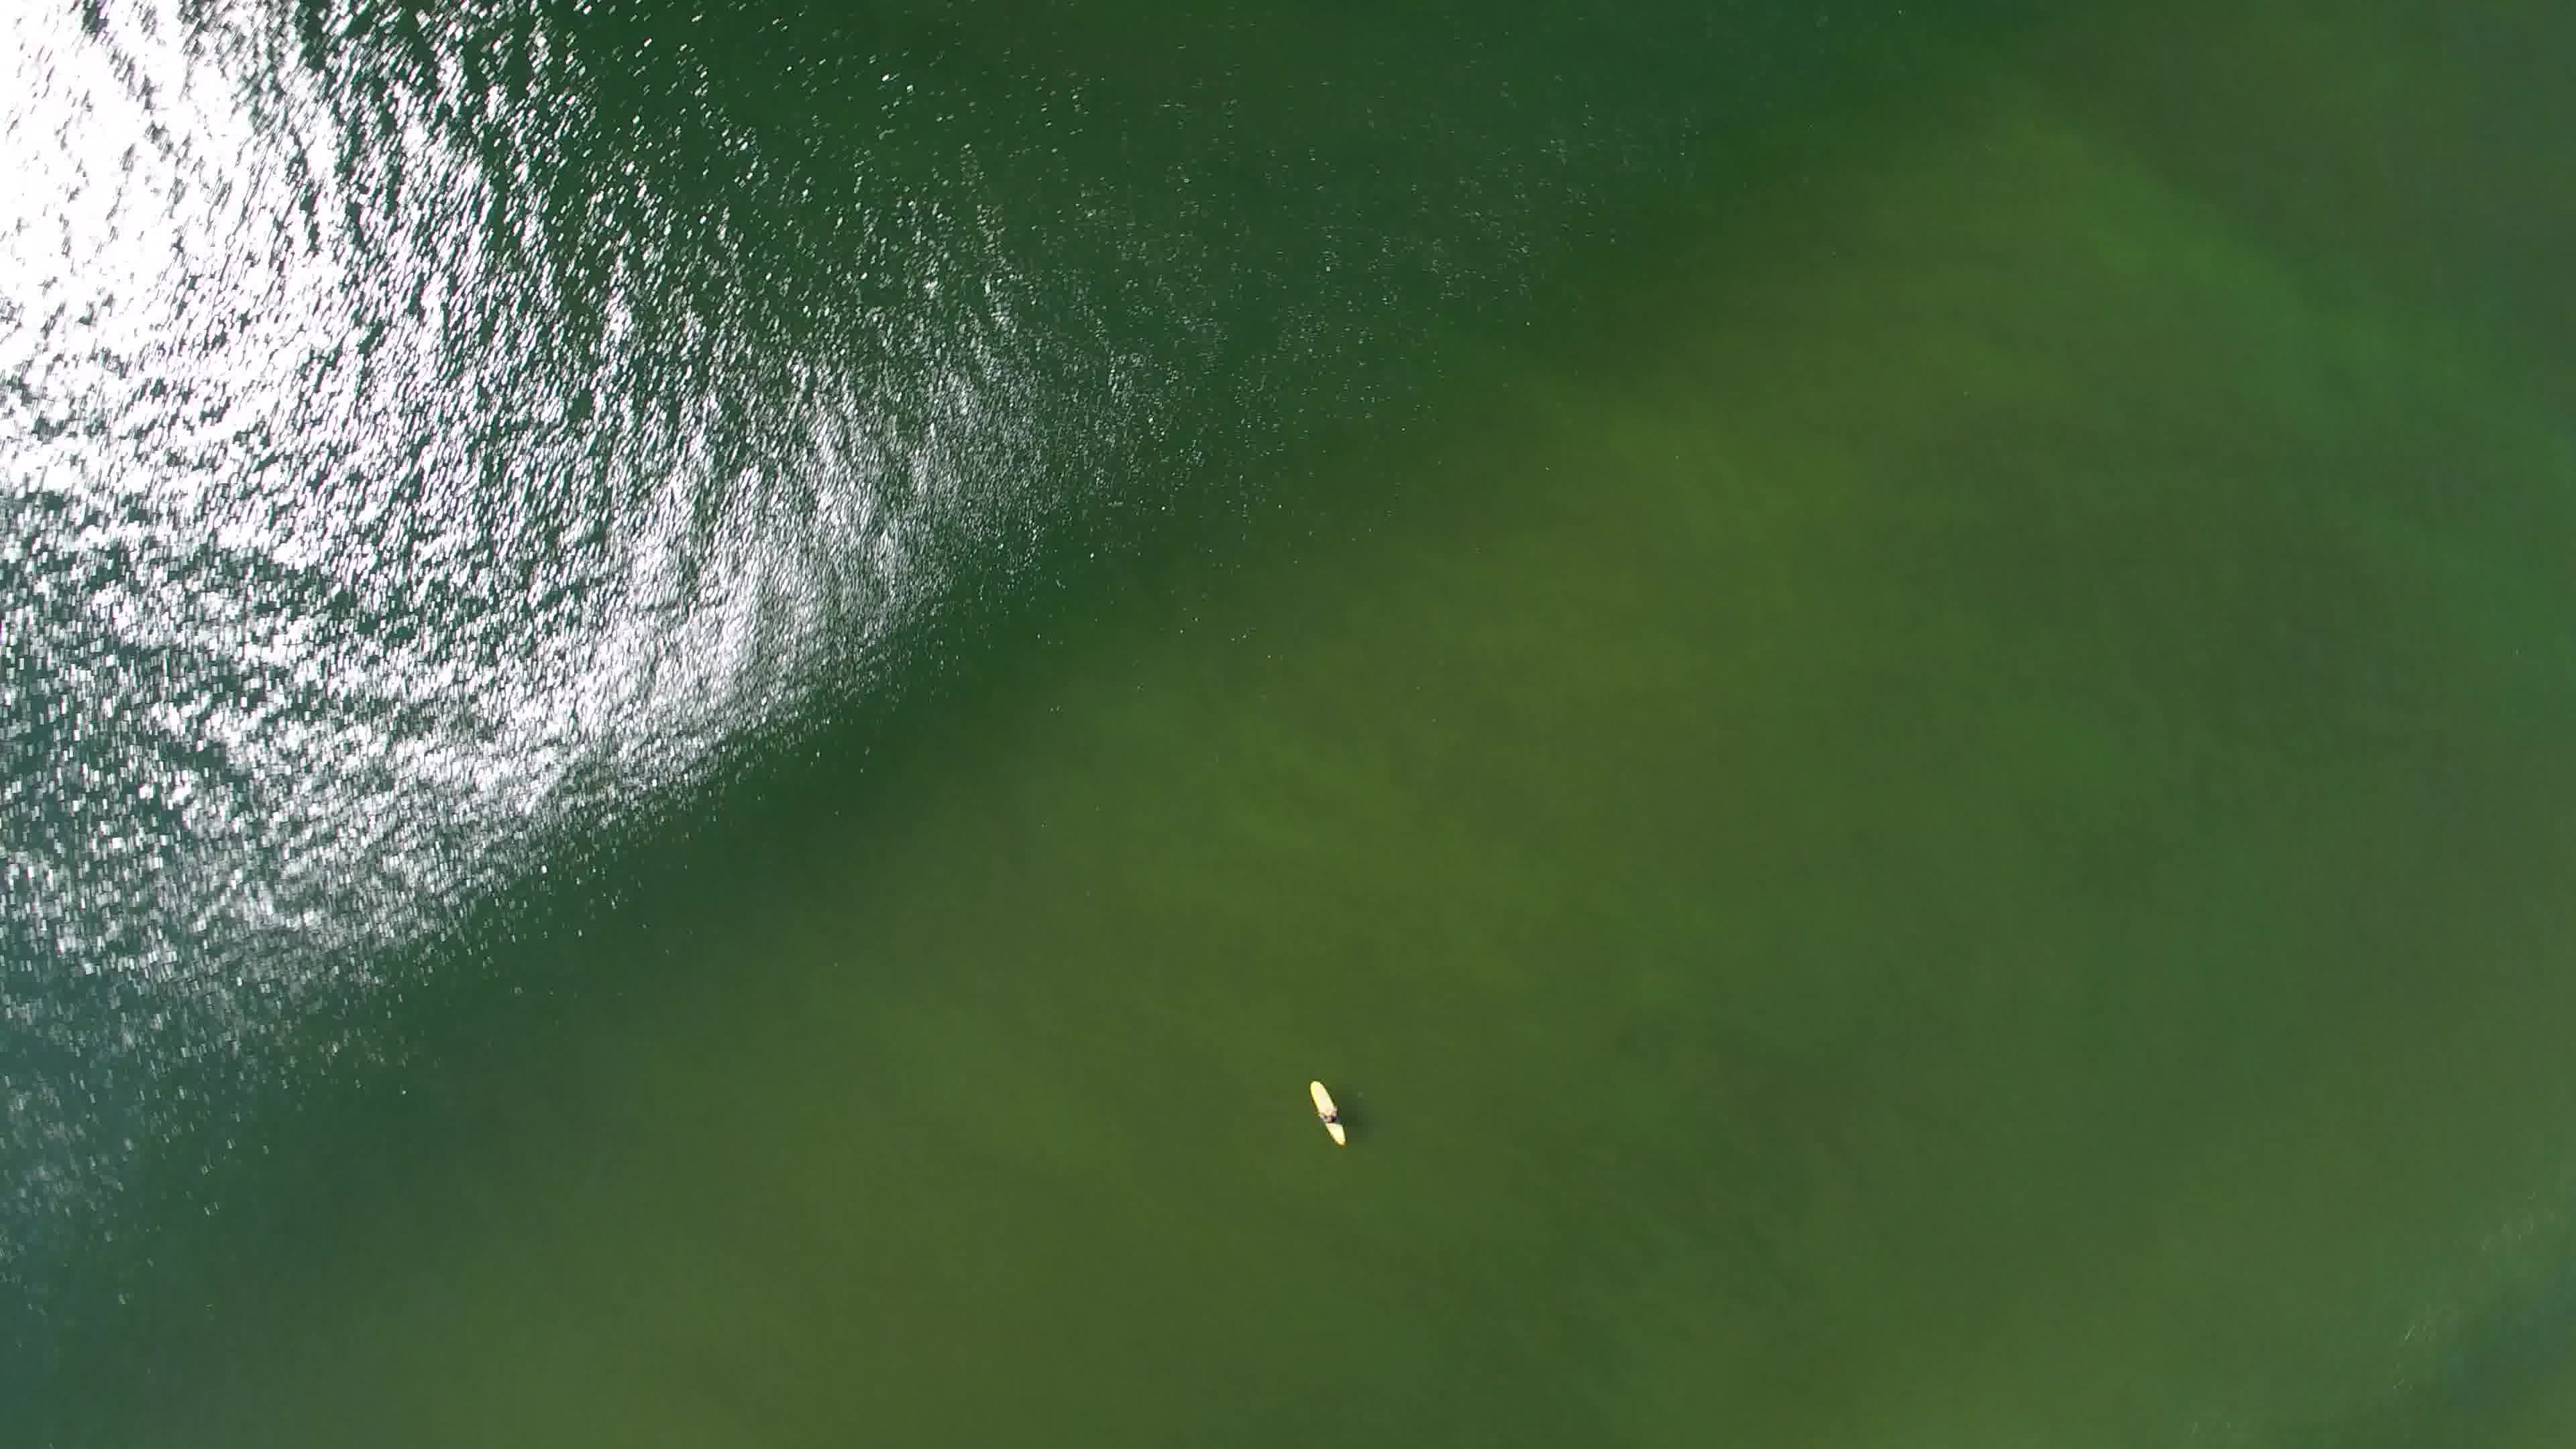surfer: (1299, 1072, 1357, 1154)
